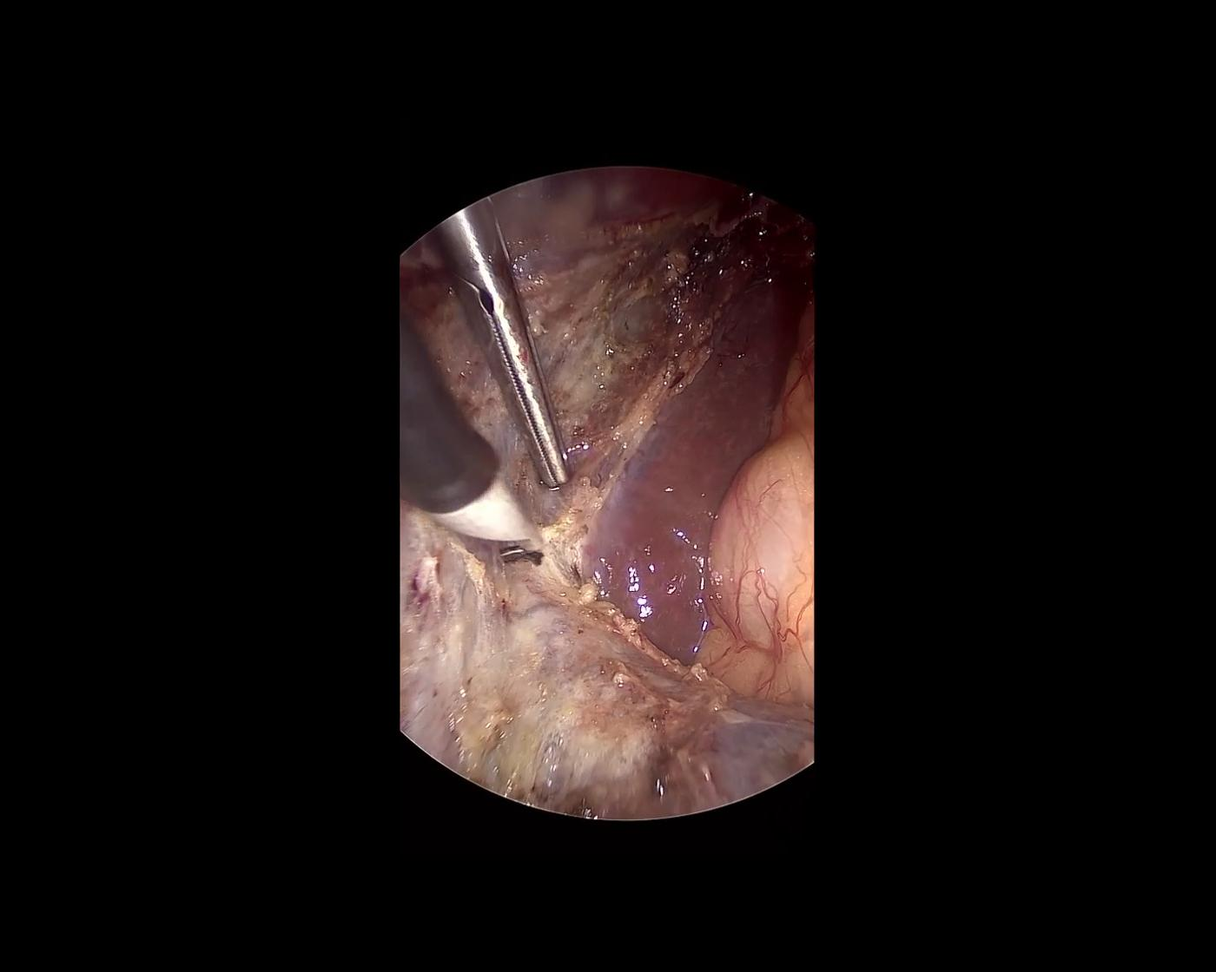Cautery: (317, 300, 543, 595)
Forceps: (430, 199, 573, 502)
Gallbladder: (430, 564, 838, 911)
Liver: (564, 202, 826, 662), (492, 123, 759, 274)
